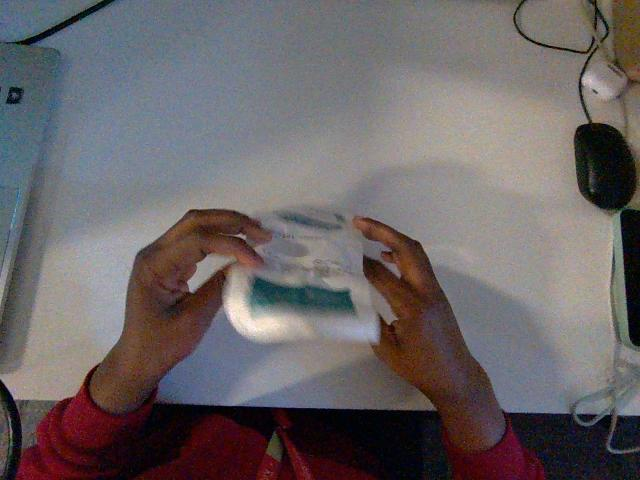gallipot: (223, 208, 379, 342)
